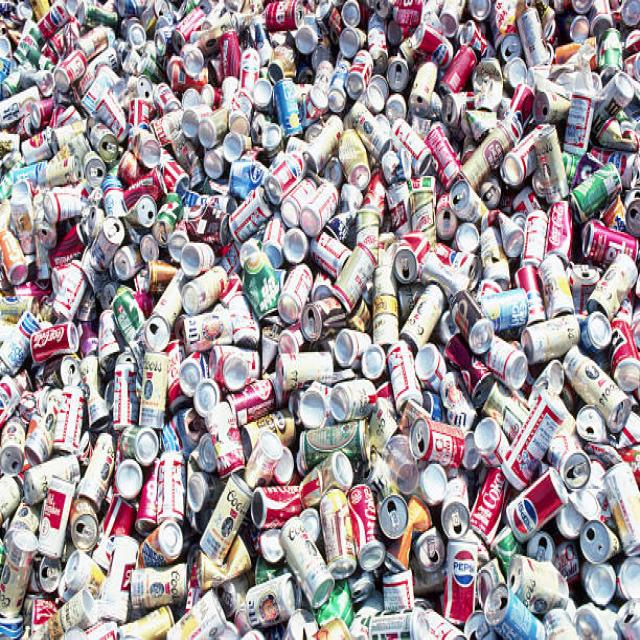metal: (3, 17, 634, 603)
